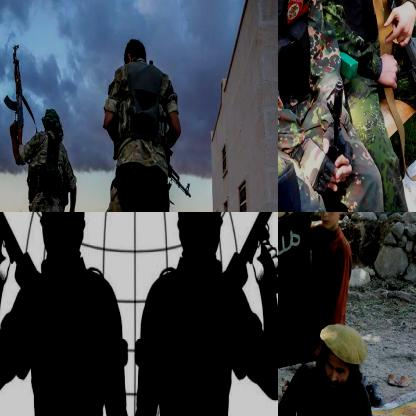rifle: (364, 0, 415, 211), (319, 71, 359, 211), (3, 44, 24, 144), (164, 156, 192, 204)
